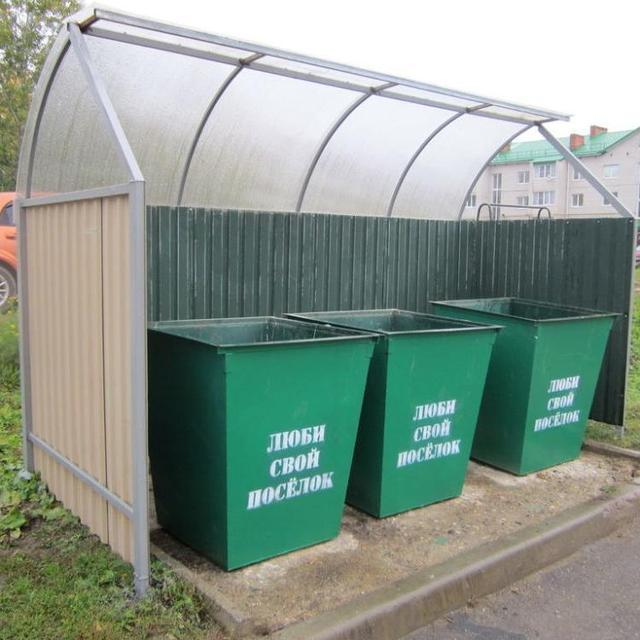Trash_Can_Empty: (149, 316, 382, 570), (282, 309, 502, 518), (428, 297, 623, 476)
